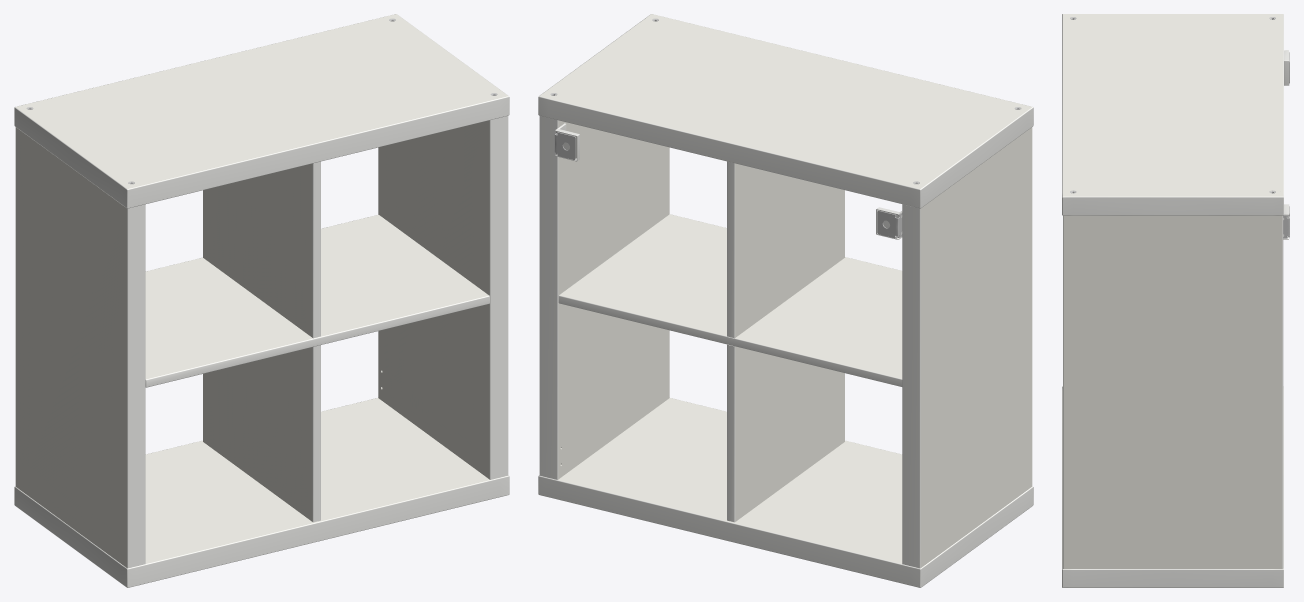
The model's file is bookshelf_low.glb.
3 renders of one model, left to right at view 1: azimuth 30°, elevation 25°; view 2: azimuth 150°, elevation 25°; view 3: azimuth 270°, elevation 25°, orthographic.
Visible parts, largest first — view 1: Mesh_0; view 2: Mesh_0; view 3: Mesh_0.
Part boxes in pixels (x1,y1,x2,y2): Mesh_0: [14, 14, 509, 587]; Mesh_0: [538, 14, 1033, 587]; Mesh_0: [1062, 14, 1289, 587].
Bounding box in the file's own units: 0.765 × 0.7654 × 0.4023.
1 material, 1 textured.
